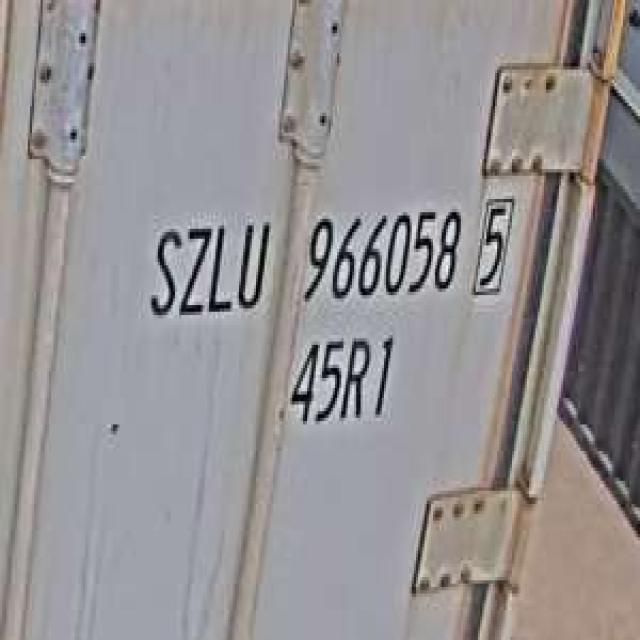dv: (472, 186, 516, 302)
owner: (141, 202, 273, 328)
serial: (299, 192, 465, 308)
size: (284, 325, 403, 434)
